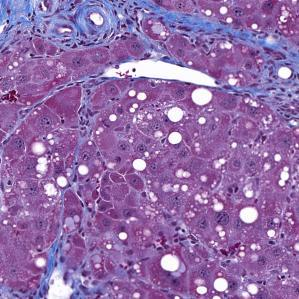fibrosis: (12, 0, 172, 48)
